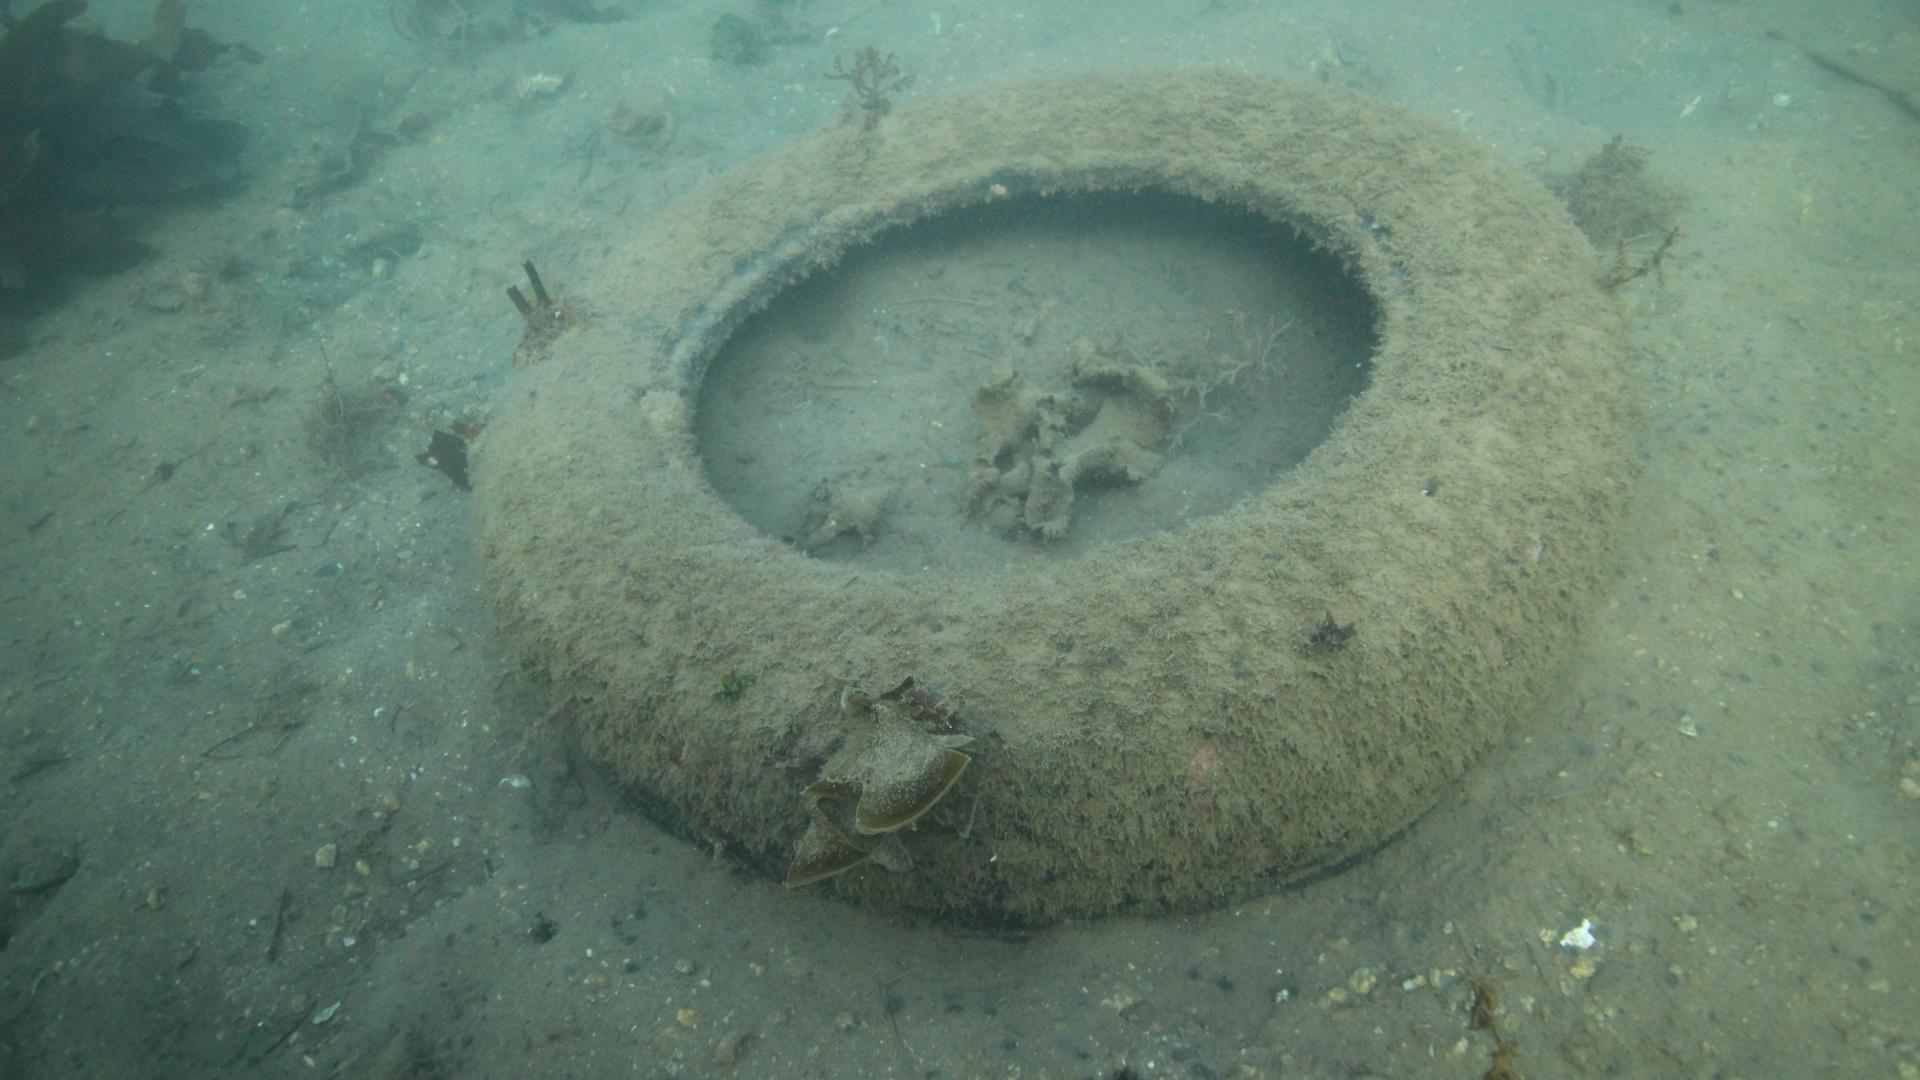tire: (462, 66, 1648, 928)
